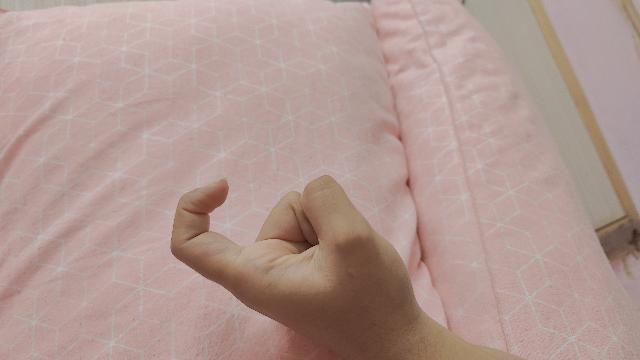tamrachud: (171, 176, 524, 360)
